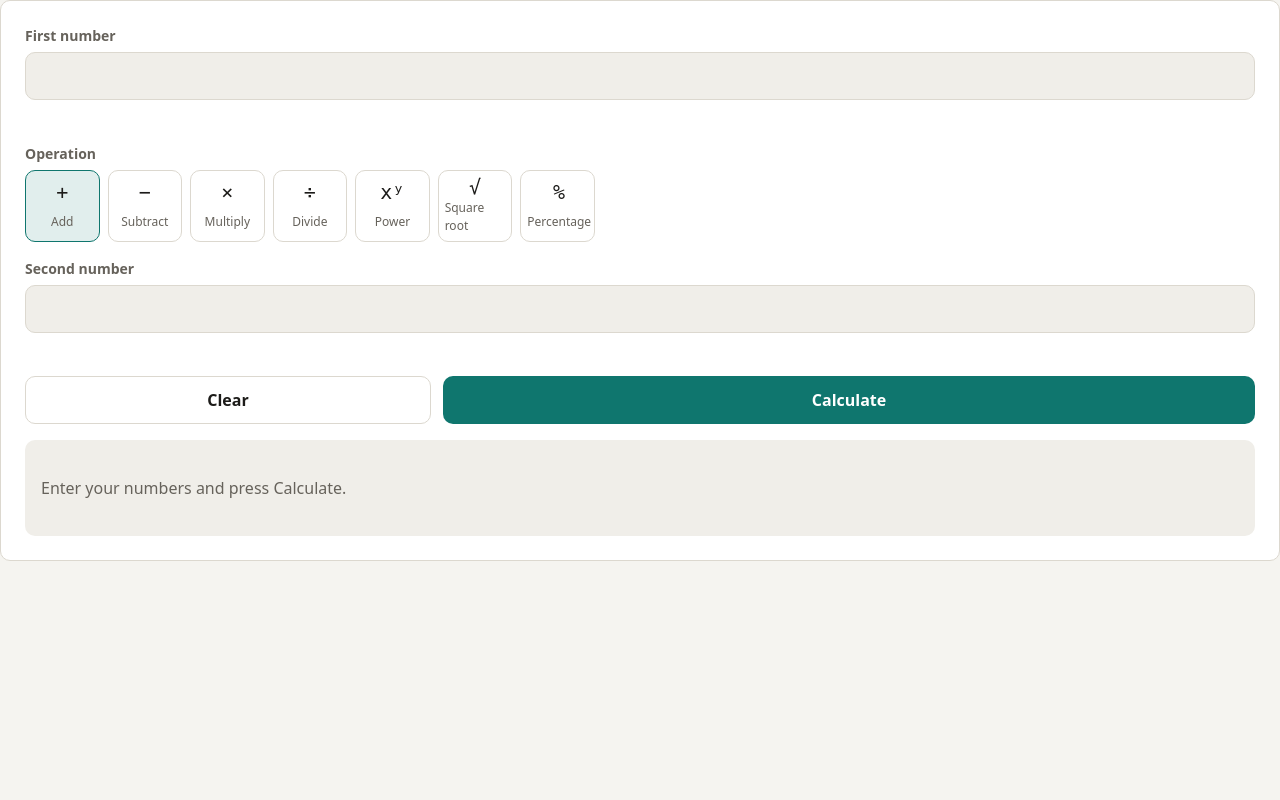
Test: Calculator › calculates and shows the expression with its result
Type "10" into the field labelled "First number" at (640, 76), box [25,52,1255,100]
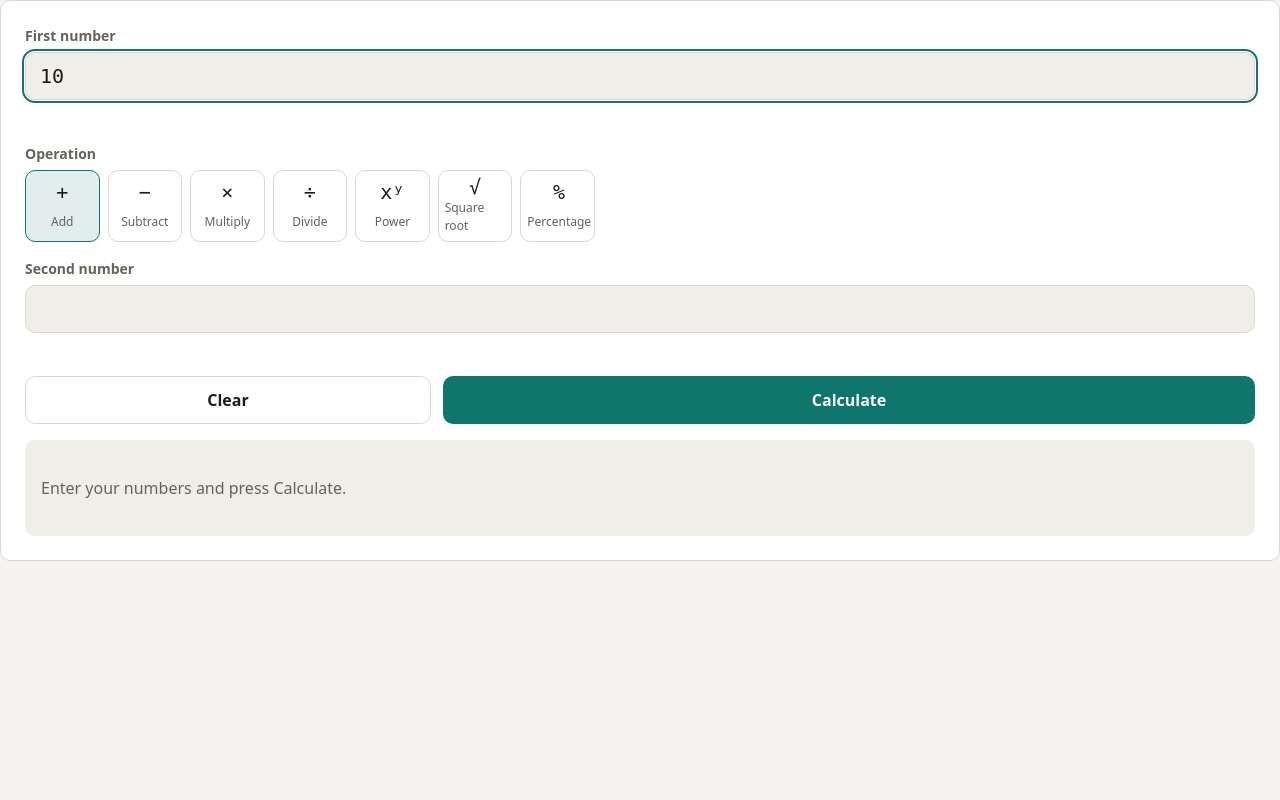
Click the radio button labelled "Divide" at (310, 206), box [273,170,347,242]
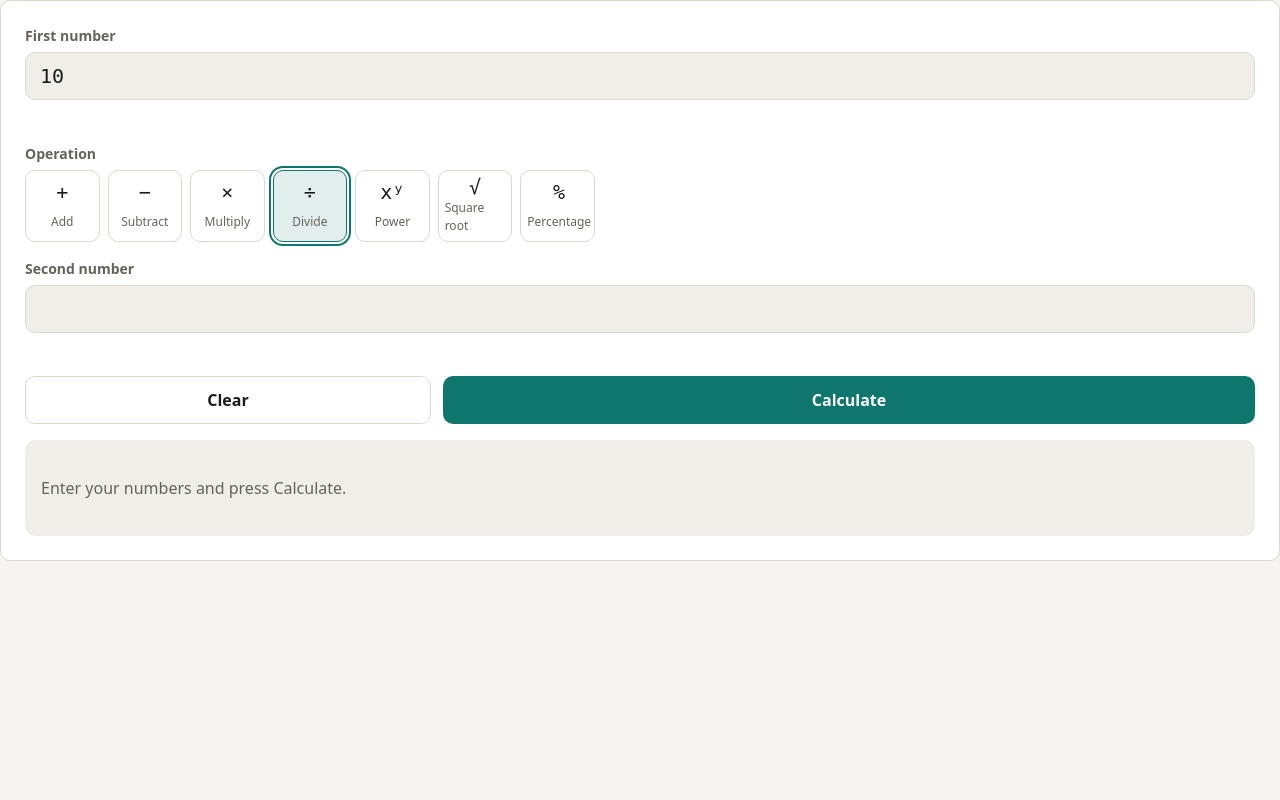
Type "4" into the field labelled "Second number" at (640, 309), box [25,285,1255,333]
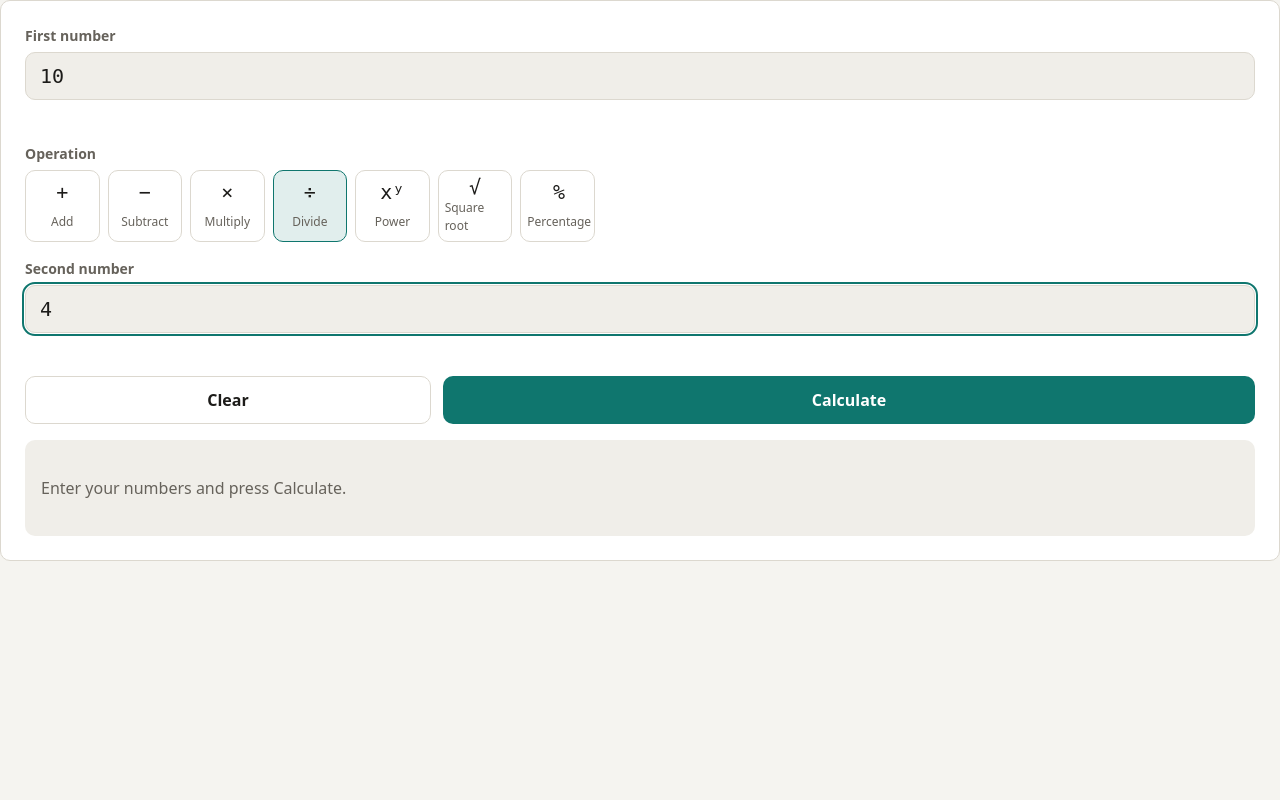
Click the button "Calculate" at (849, 400), box [443,376,1255,424]
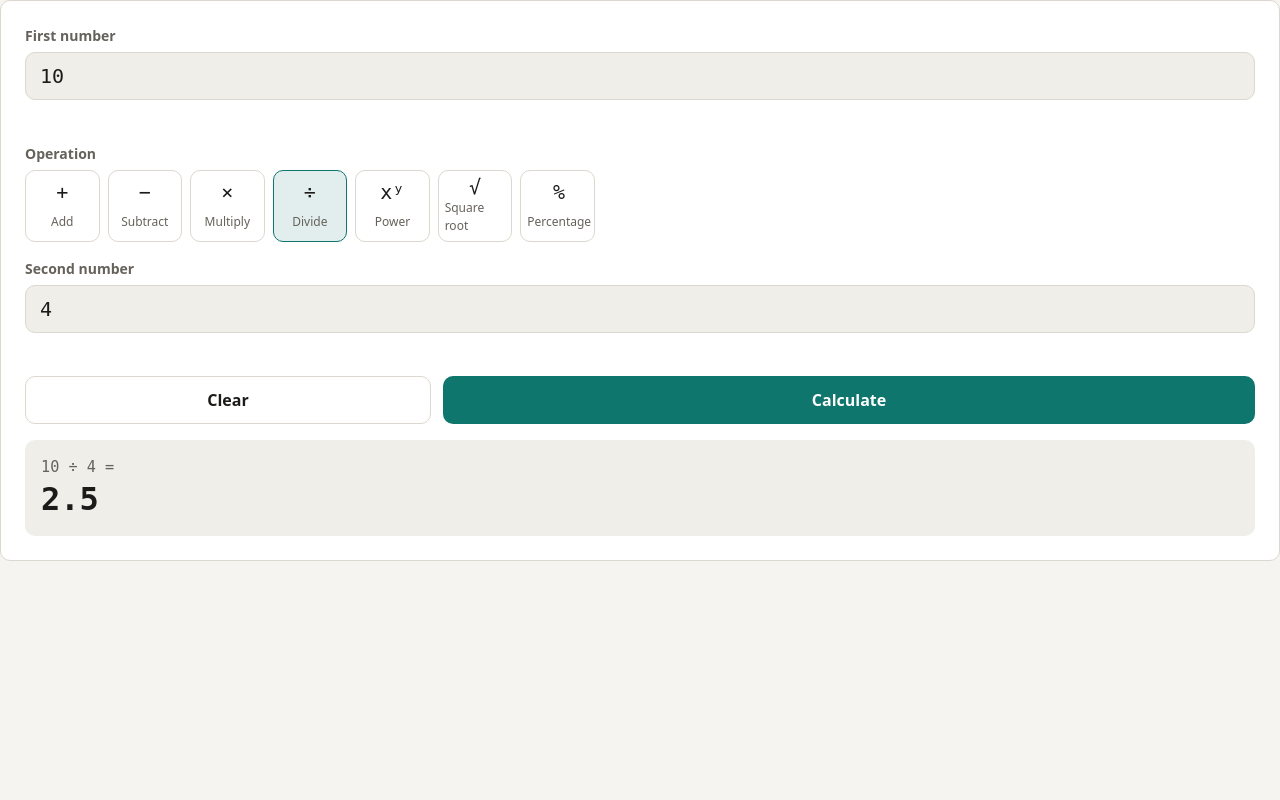
Check: the text "10 ÷ 4 =" is shown, box [41,458,114,476]
Check: the text "2.5" is shown, box [41,480,99,518]
